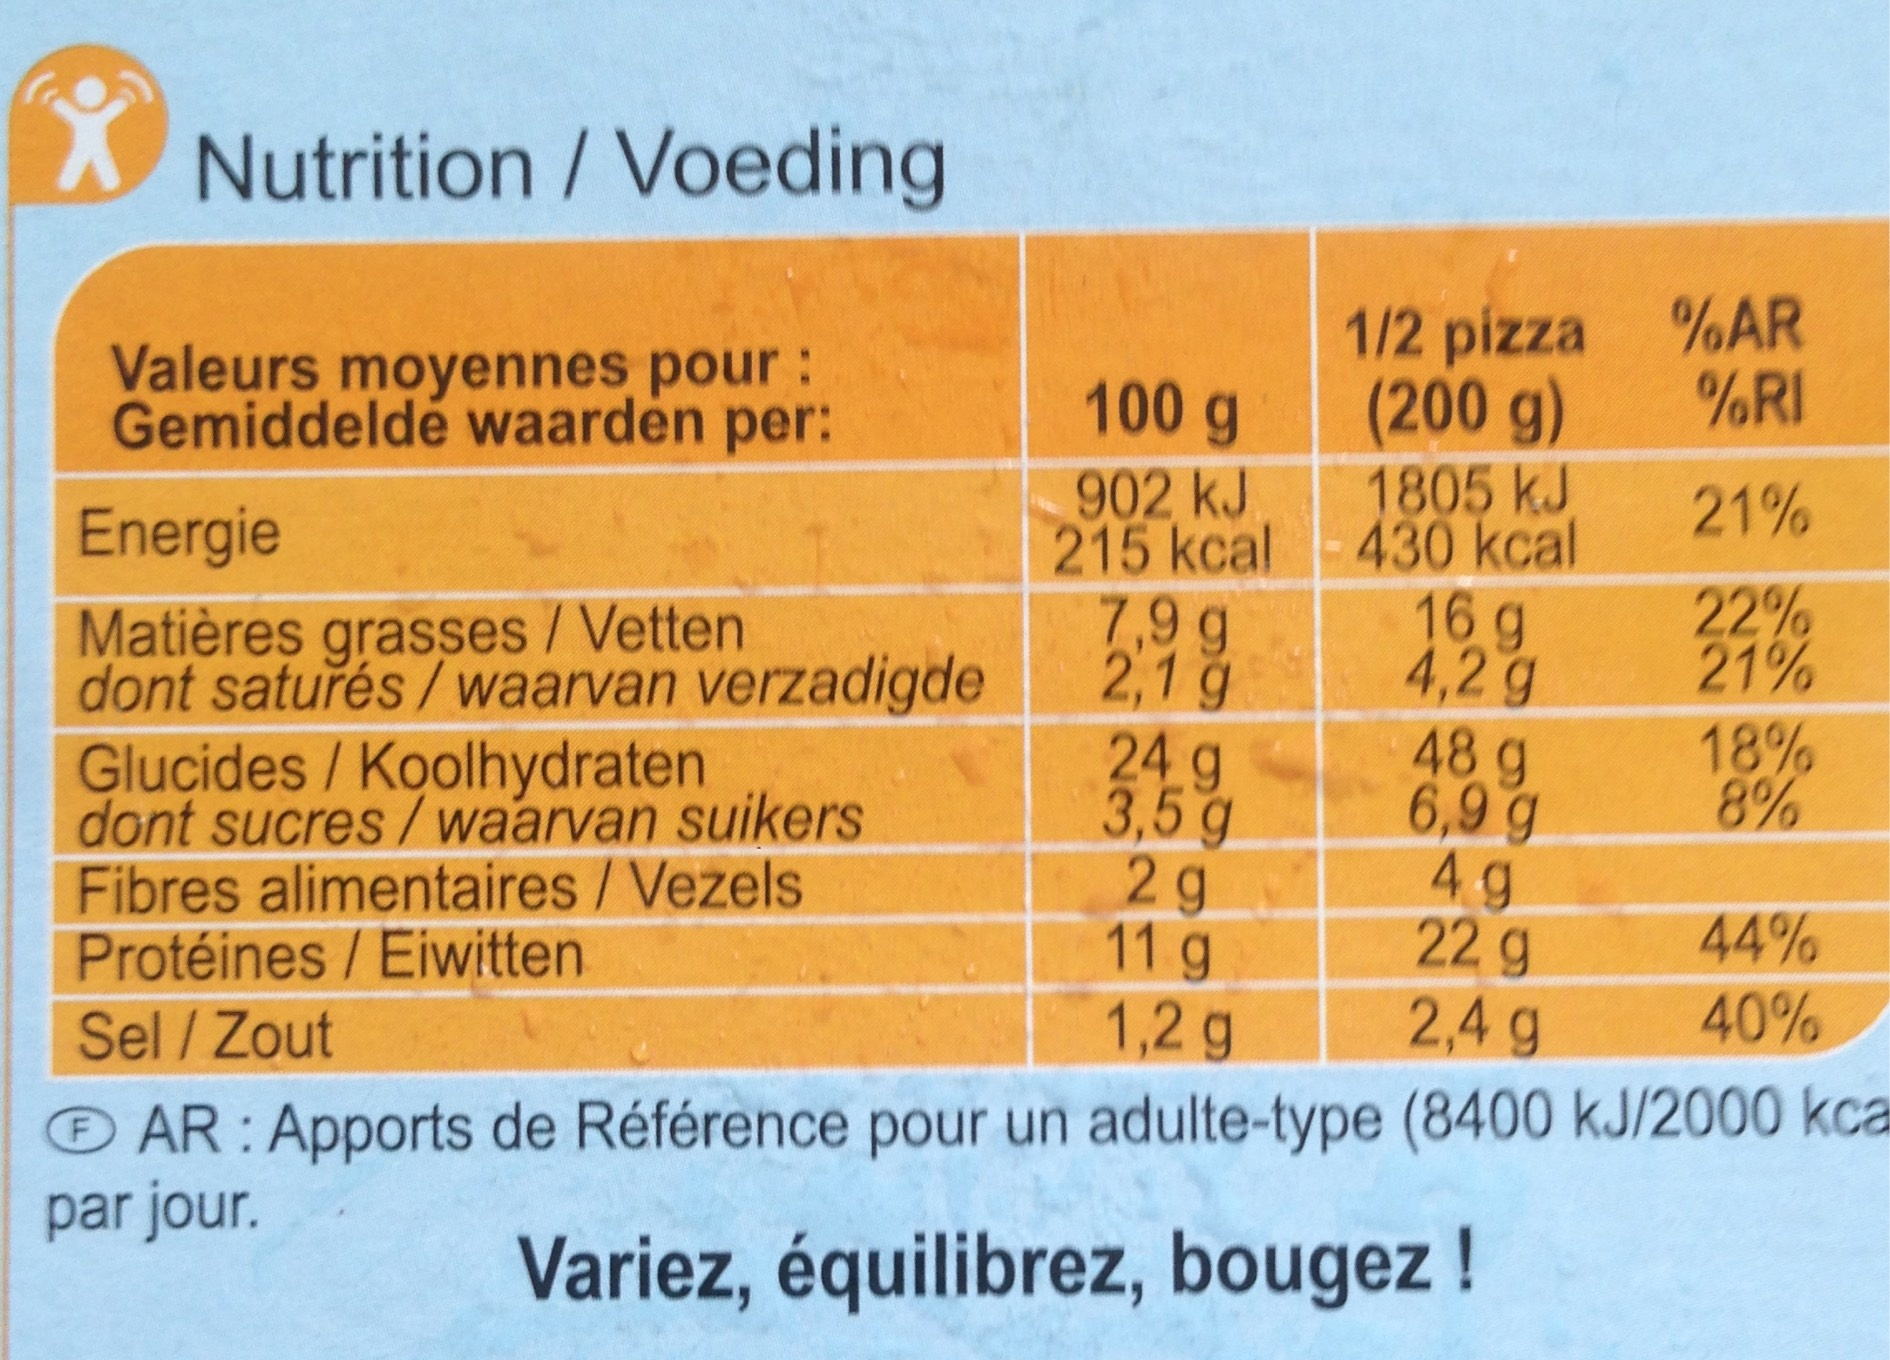column: (79, 320, 1007, 1064), (1341, 301, 1591, 1056), (1052, 320, 1285, 1056), (1673, 288, 1825, 1050)
table: (45, 229, 1890, 1077)
